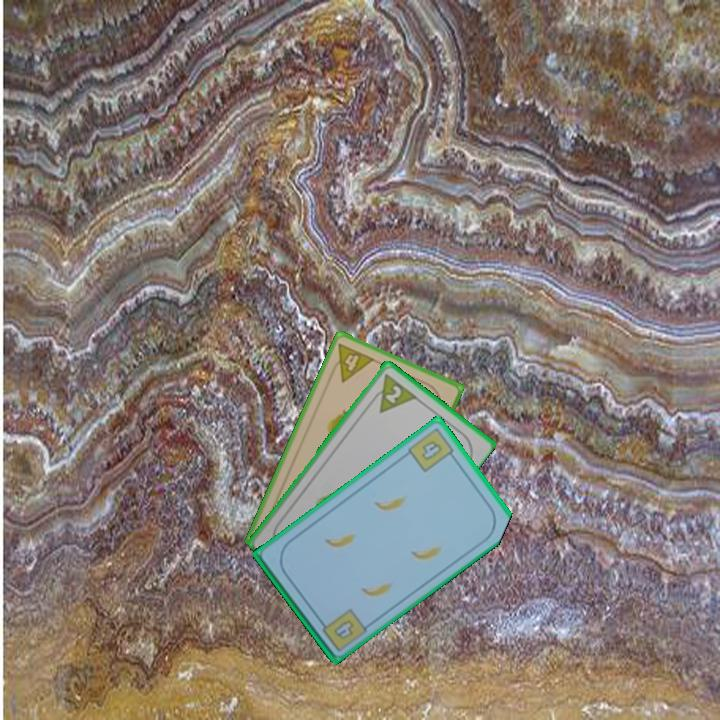2p: (366, 369, 419, 416)
4b: (404, 424, 459, 475), (330, 616, 357, 642)
4p: (326, 339, 377, 385)
